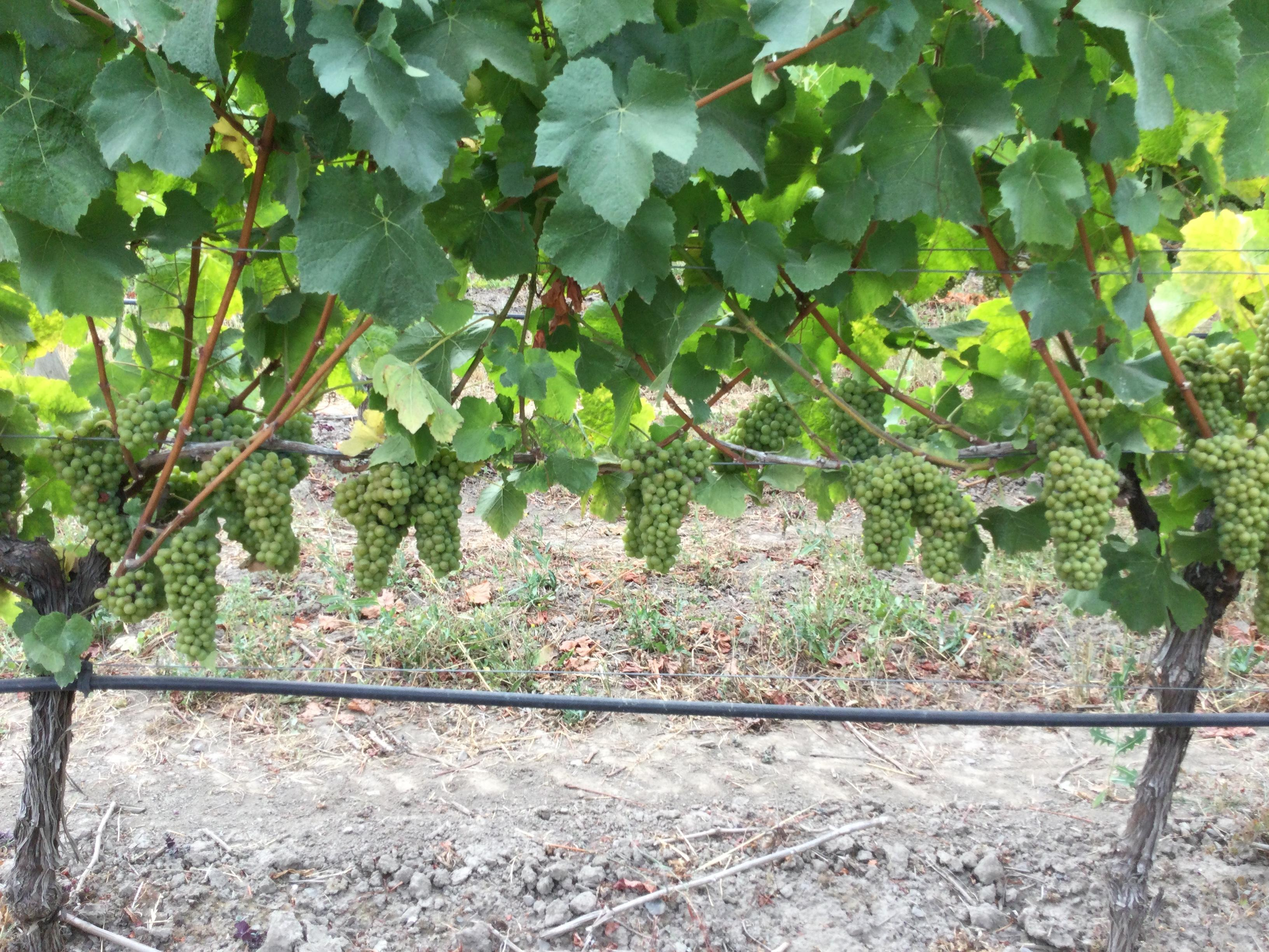leaf: (534, 56, 697, 227), (294, 169, 454, 328), (861, 66, 1015, 221), (0, 35, 113, 233), (1076, 0, 1239, 129), (340, 56, 475, 195), (7, 193, 143, 317), (88, 52, 215, 176), (540, 190, 674, 299), (308, 6, 423, 128), (810, 0, 943, 89), (400, 0, 537, 86), (1098, 530, 1206, 632), (425, 179, 536, 278), (622, 277, 722, 374), (998, 139, 1086, 247), (1013, 20, 1094, 137), (1221, 0, 1268, 180), (686, 93, 784, 175), (373, 354, 462, 441), (391, 319, 492, 392), (1010, 260, 1096, 340), (709, 218, 787, 300), (13, 608, 93, 687), (680, 20, 761, 98), (542, 0, 654, 54), (750, 0, 853, 56), (813, 154, 876, 242), (940, 17, 1025, 81), (135, 189, 215, 254), (163, 0, 222, 83), (981, 0, 1067, 56), (1086, 348, 1169, 402), (0, 0, 93, 48), (97, 0, 182, 49), (1089, 88, 1140, 162), (978, 501, 1049, 554), (489, 347, 558, 400), (452, 396, 506, 462), (241, 2, 296, 58), (1111, 175, 1160, 234), (476, 481, 526, 537), (670, 351, 720, 401), (801, 469, 849, 521), (694, 472, 748, 518), (582, 472, 632, 521), (545, 449, 597, 495), (0, 284, 39, 345), (337, 409, 385, 456), (1168, 528, 1220, 567), (924, 319, 988, 350), (1112, 280, 1148, 330), (367, 433, 418, 465), (0, 410, 12, 416), (3, 426, 8, 433), (912, 11, 914, 19), (794, 278, 797, 283), (292, 7, 293, 19), (1034, 53, 1042, 54), (17, 0, 21, 2), (301, 32, 302, 38), (892, 4, 894, 7), (995, 24, 999, 25), (799, 285, 800, 286), (707, 394, 708, 395), (14, 408, 15, 408)
